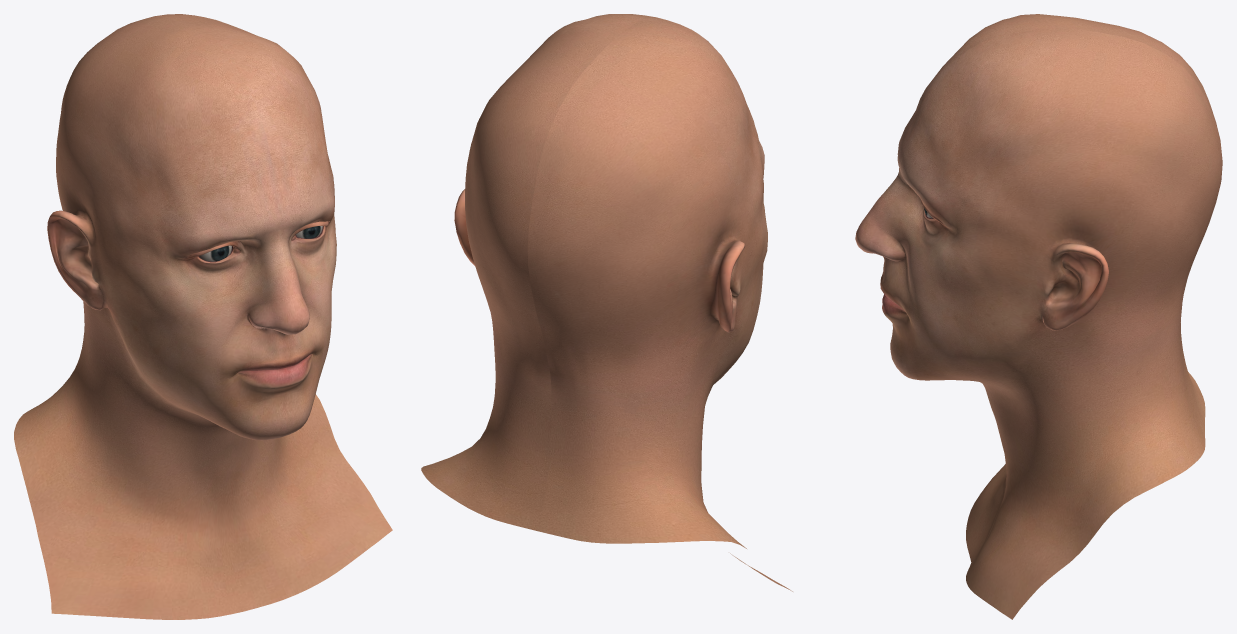
File: head_1003.glb
The picture shows the model from 3 angles, left to right: view 1: azimuth 30°, elevation 25°; view 2: azimuth 150°, elevation 25°; view 3: azimuth 270°, elevation 25°; orthographic projection. The views are drawn at different scales.
Parts seen in each view (by area): view 1: head; view 2: head; view 3: head.
Part boxes in pixels (box(x1,y1,x2,y2)): head: box(14, 14, 392, 619); head: box(421, 14, 792, 591); head: box(855, 14, 1222, 619).
Size of the model in its own units: 0.2297 by 0.3514 by 0.2191.
3 materials, 2 textured.
